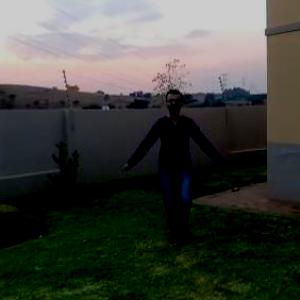land: (131, 98, 220, 224)
